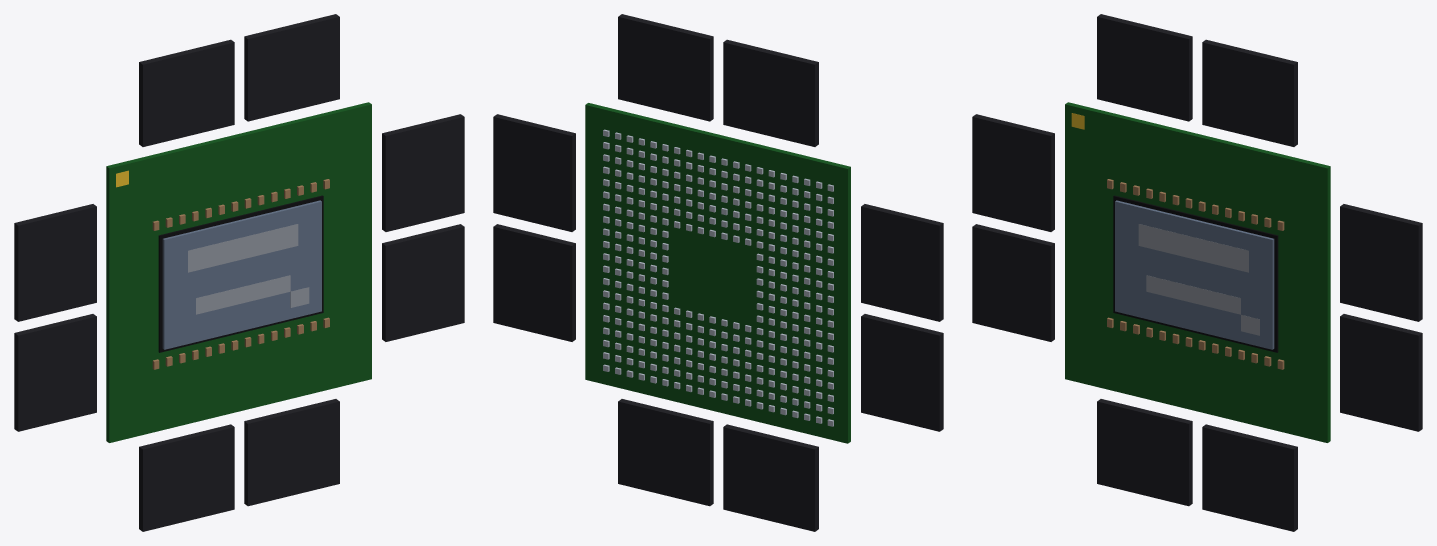
The model's file is GPU_NVIDIA_GEFORCE_RTX_4090_LAPTOP_BGA.obj.
The picture shows the model from 3 angles, left to right: view 1: azimuth 30°, elevation 25°; view 2: azimuth 150°, elevation 25°; view 3: azimuth 330°, elevation 25°; orthographic projection.
Bounding box in the file's own units: 68 × 68 × 1.81.
